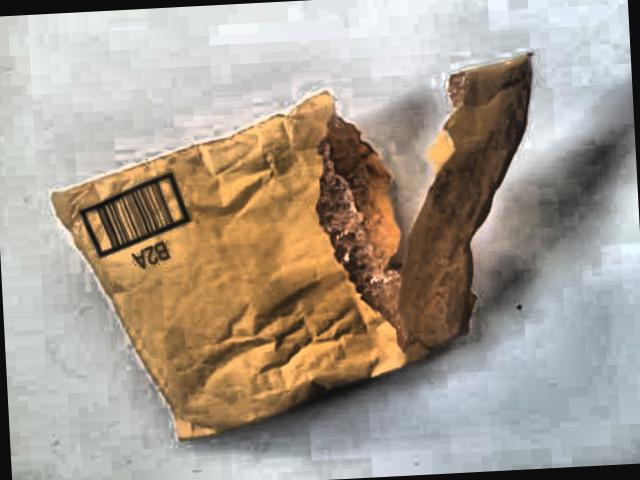Paper: (38, 33, 560, 451)
